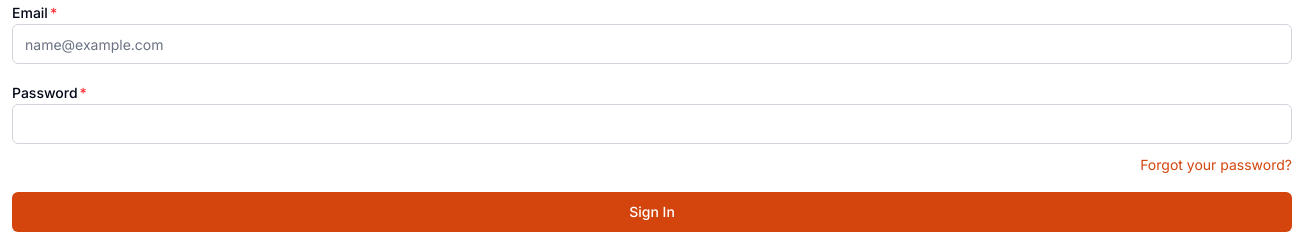
Test case: LoginForm › disables inputs while loading
Type "test@example.com" into the field labelled "Email*".
click(652, 44); type("test@example.com")  # box [12,24,1292,64]
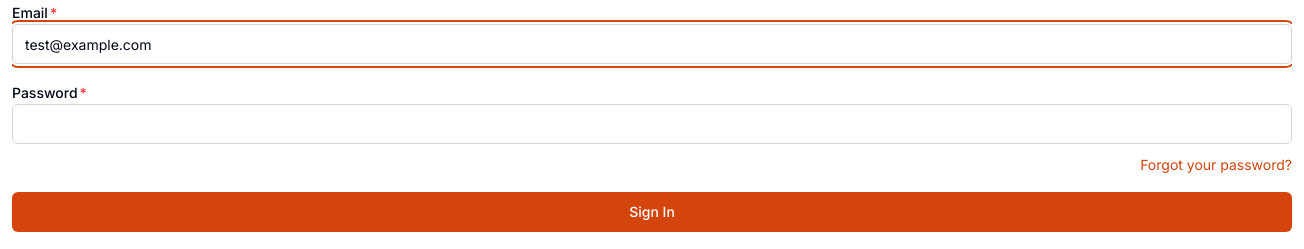
Type "password123" into the password field labelled "Password*".
click(652, 124); type("password123")  # box [12,104,1292,144]
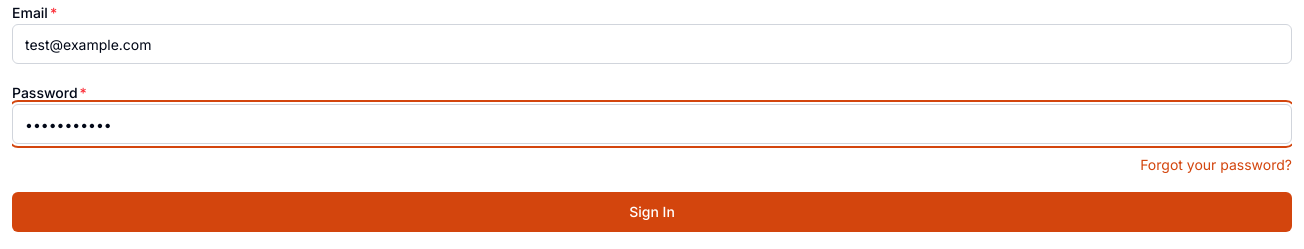
// Click and check loading state immediately
Click the button "Sign In".
click(652, 212)  # box [12,192,1292,232]
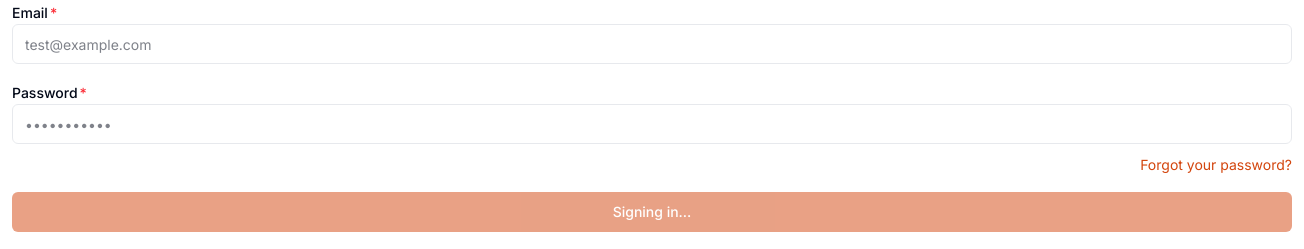
Result: the button "Signing in..." is shown at [12,192,1292,232]
